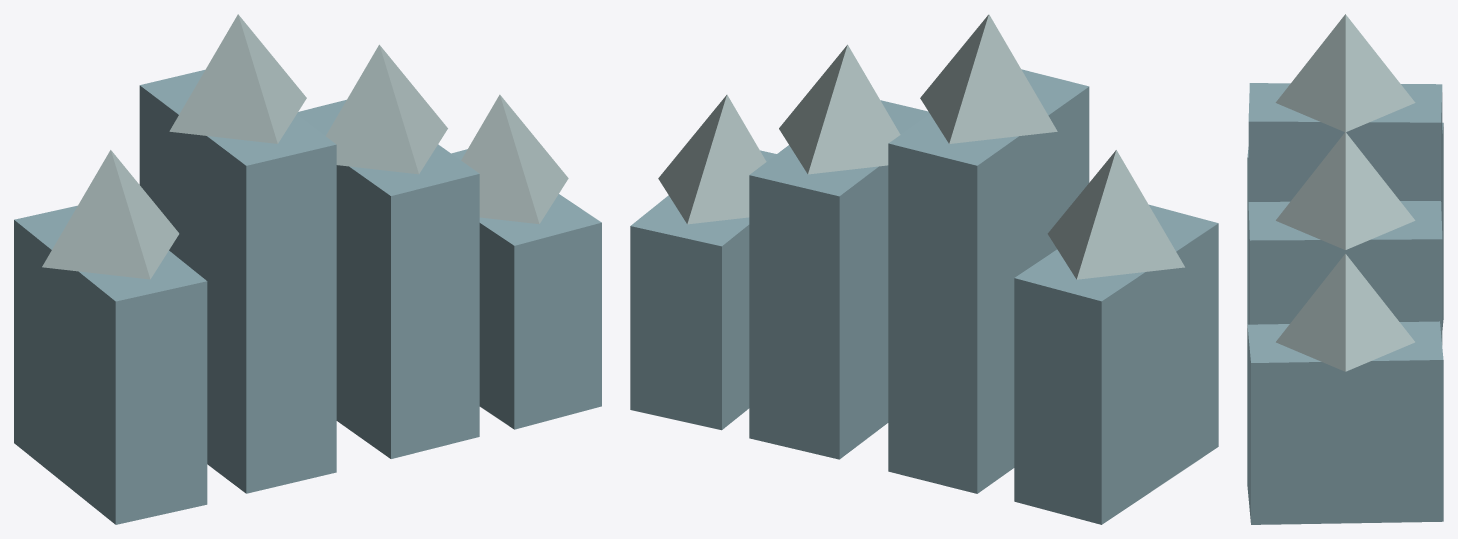
File: map-exclusive-v3__frost_12.glb
3 renders of one model, left to right at view 1: azimuth 30°, elevation 25°; view 2: azimuth 150°, elevation 25°; view 3: azimuth 270°, elevation 25°, orthographic. The views are drawn at different scales.
Parts seen in each view (by area): view 1: frost_12; view 2: frost_12; view 3: frost_12.
Part boxes in pixels (left/top/right/bottom): frost_12: left=14, top=14, right=601, bottom=524; frost_12: left=630, top=14, right=1218, bottom=524; frost_12: left=1247, top=14, right=1443, bottom=524.
Size of the model in its own units: 1.53 by 1.19 by 0.56.
